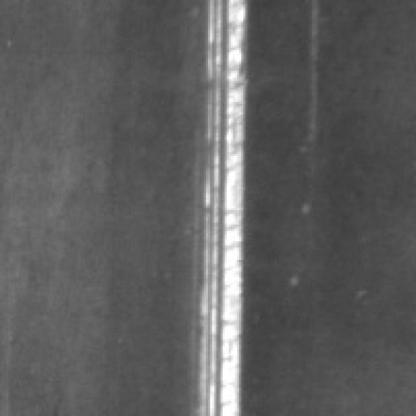scratches: (191, 0, 248, 412)
